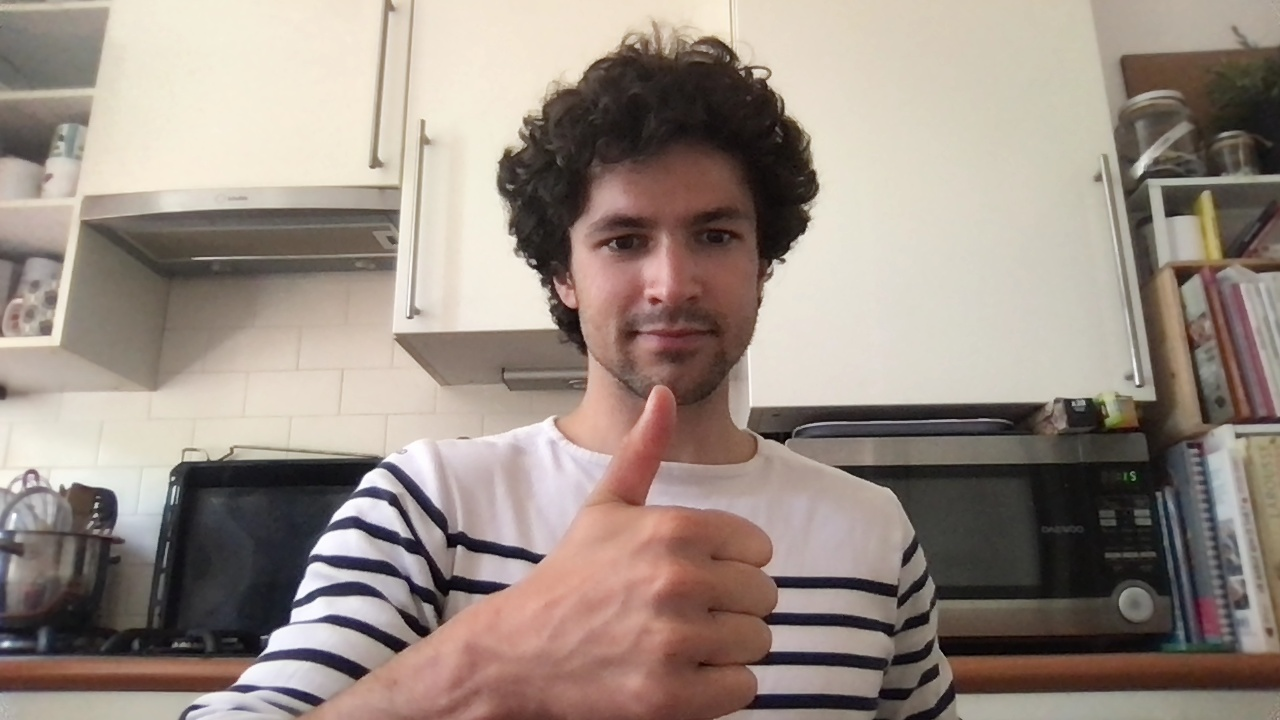thumbUp: (536, 384, 779, 720)
